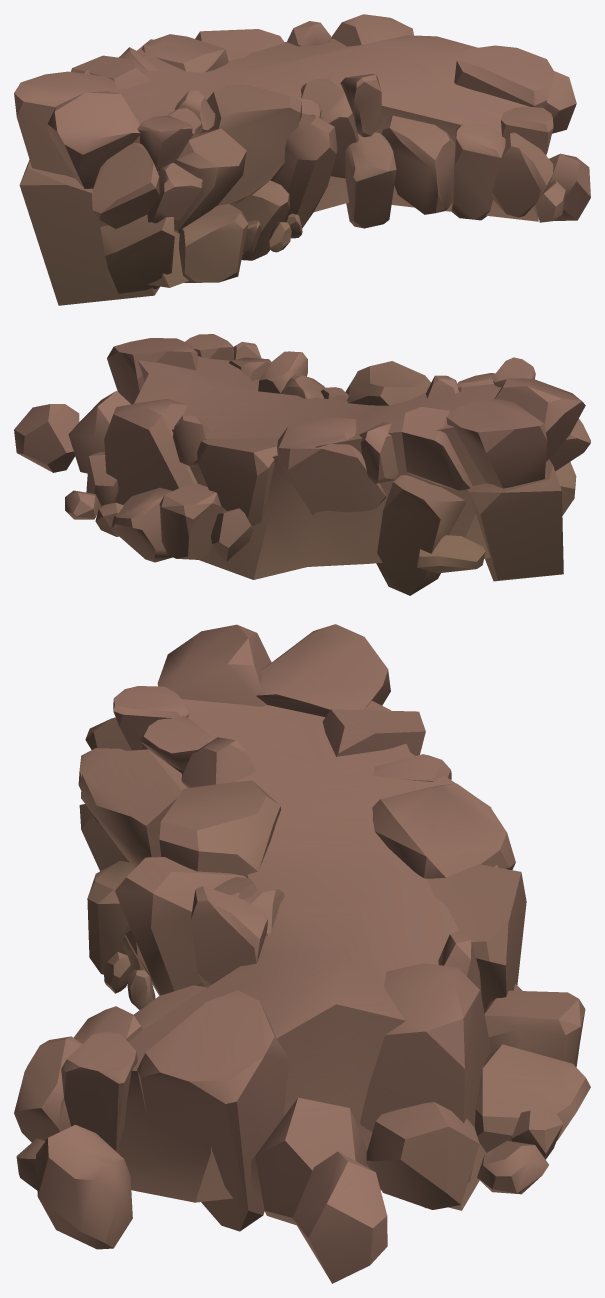
File: Rock02.fbx
3 views of the same model, one above another, from view 1: azimuth 30°, elevation 25°; view 2: azimuth 150°, elevation 25°; view 3: azimuth 270°, elevation 25° (orthographic). The views are drawn at different scales.
Parts seen in each view (by area): view 1: Rock02; view 2: Rock02; view 3: Rock02.
Part boxes in pixels (x1,y1,x2,y2): Rock02: [14, 14, 590, 305]; Rock02: [14, 334, 590, 595]; Rock02: [14, 624, 590, 1283].
Size of the model in its own units: 1961 by 689 by 1153.
